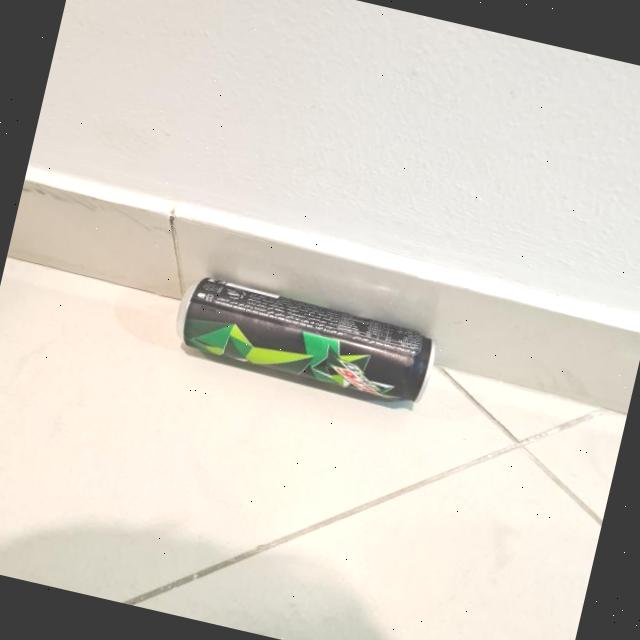trash: (170, 267, 444, 422)
